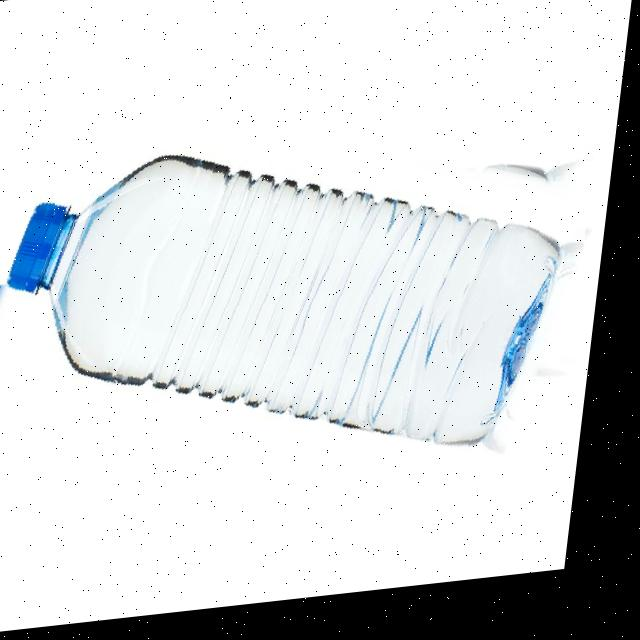plasticbottle: (0, 73, 610, 551)
plasticbottlecap: (0, 182, 114, 488)
